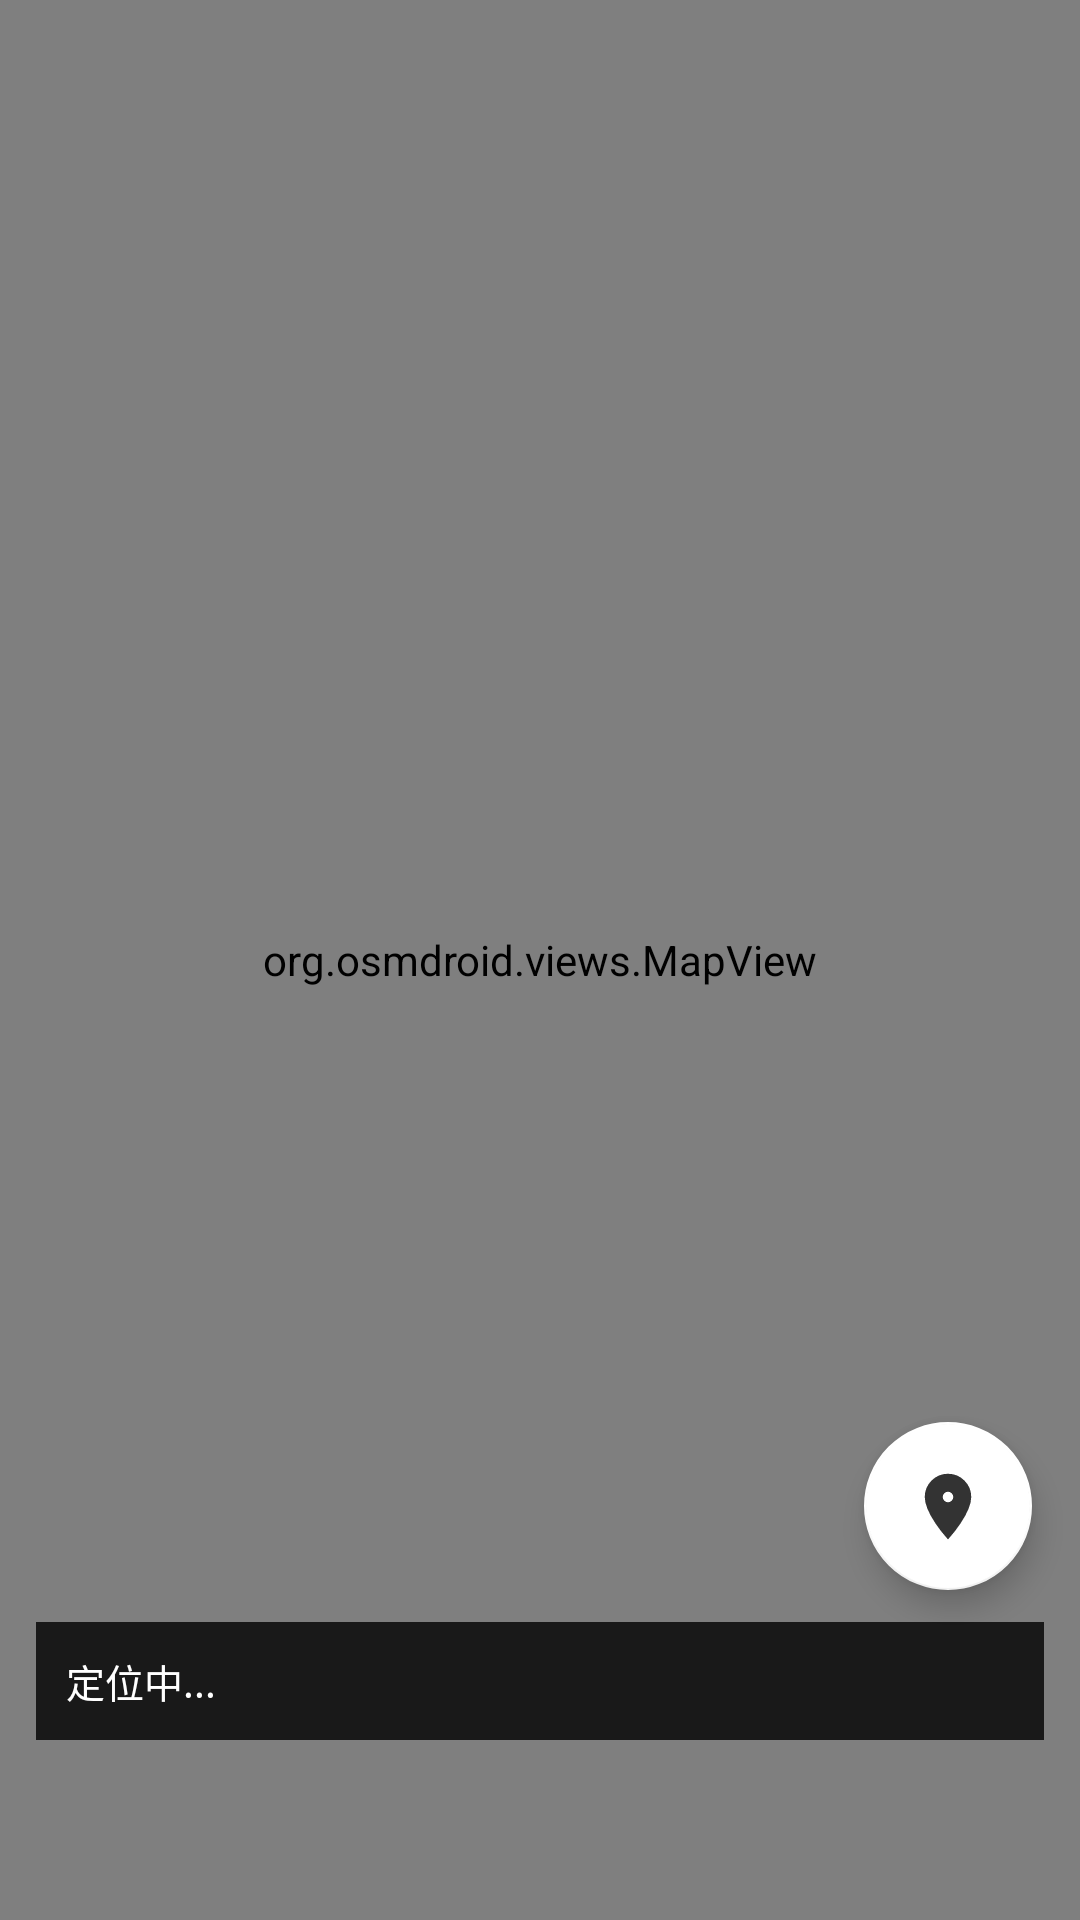

Locate icon controls on the screen. Image size 1080px×1920px, boxes as (x1, y1, x2, y2).
回到我的位置: (864, 1422, 1032, 1590)
